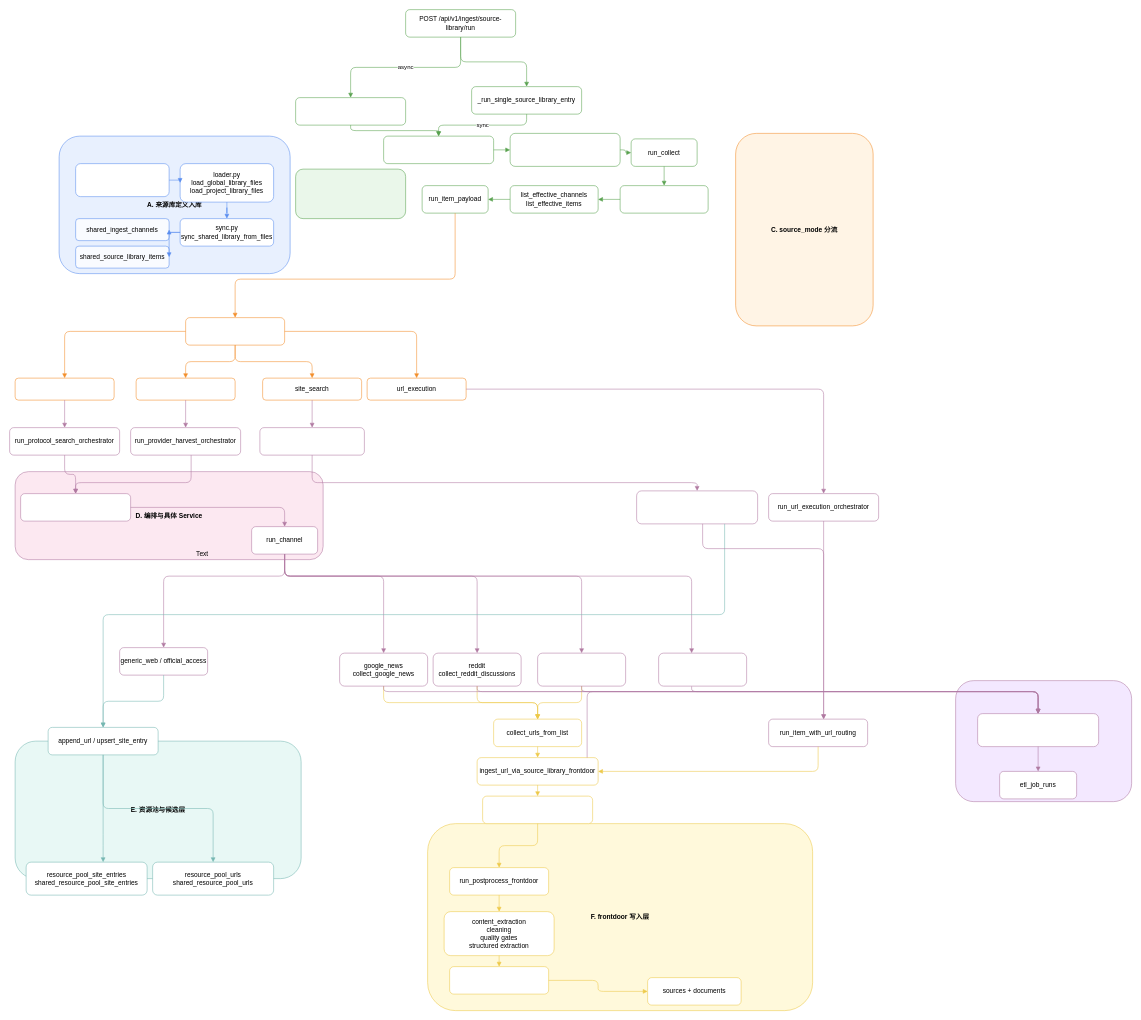
This 1141x1020 diagram has some shape labels left out. Here are the shapes that lost their labels. From the top down, the centre of each, then its label:
(350,111): task_run_source_library_item
(438,150): run_source_library_item_compat
(565,149): collect_request_from_source_library_api
(122,180): 信息源库文件 global/channels + global/items + projects/*
(350,194): B. 来源库运行入口
(664,199): SourceLibraryAdapter.run
(235,331): ItemResolver.resolve
(64,389): protocol_search
(185,389): provider_harvest
(311,441): run_site_search_orchestrator
(75,507): run_single_channel_orchestrator
(697,507): handler.cluster unified_search_by_item_payload
(581,669): market collect_market_info
(702,669): policy ingest_policy_documents
(1038,730): job_logger start_job / complete_job / fail_job
(537,810): build_frontdoor_ingress_envelope
(499,980): persist_terminal_document
